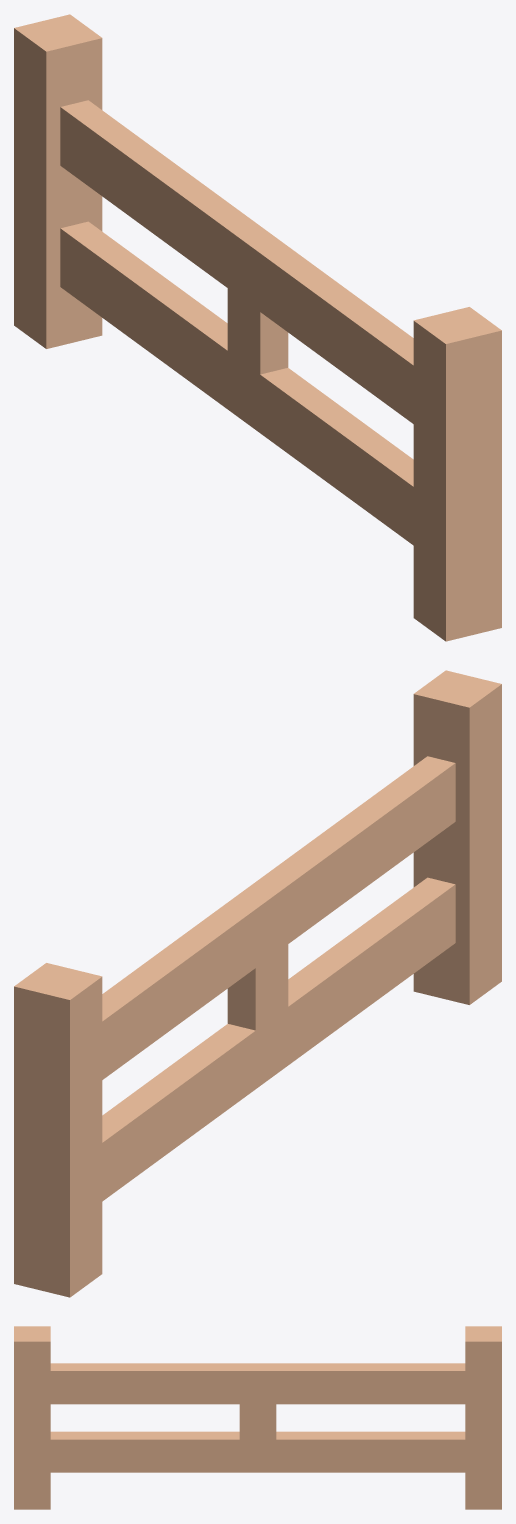
The model's file is fence.glb.
The picture shows the model from 3 angles, top to bottom: view 1: azimuth 30°, elevation 25°; view 2: azimuth 150°, elevation 25°; view 3: azimuth 270°, elevation 25°; orthographic projection. The views are drawn at different scales.
Parts seen in each view (by area): view 1: fence; view 2: fence; view 3: fence.
Part boxes in pixels (x1,y1,x2,y2): fence: [14, 14, 501, 641]; fence: [14, 670, 501, 1297]; fence: [14, 1326, 501, 1509].
Bounding box in the file's own units: 0.075 × 0.38 × 1.
